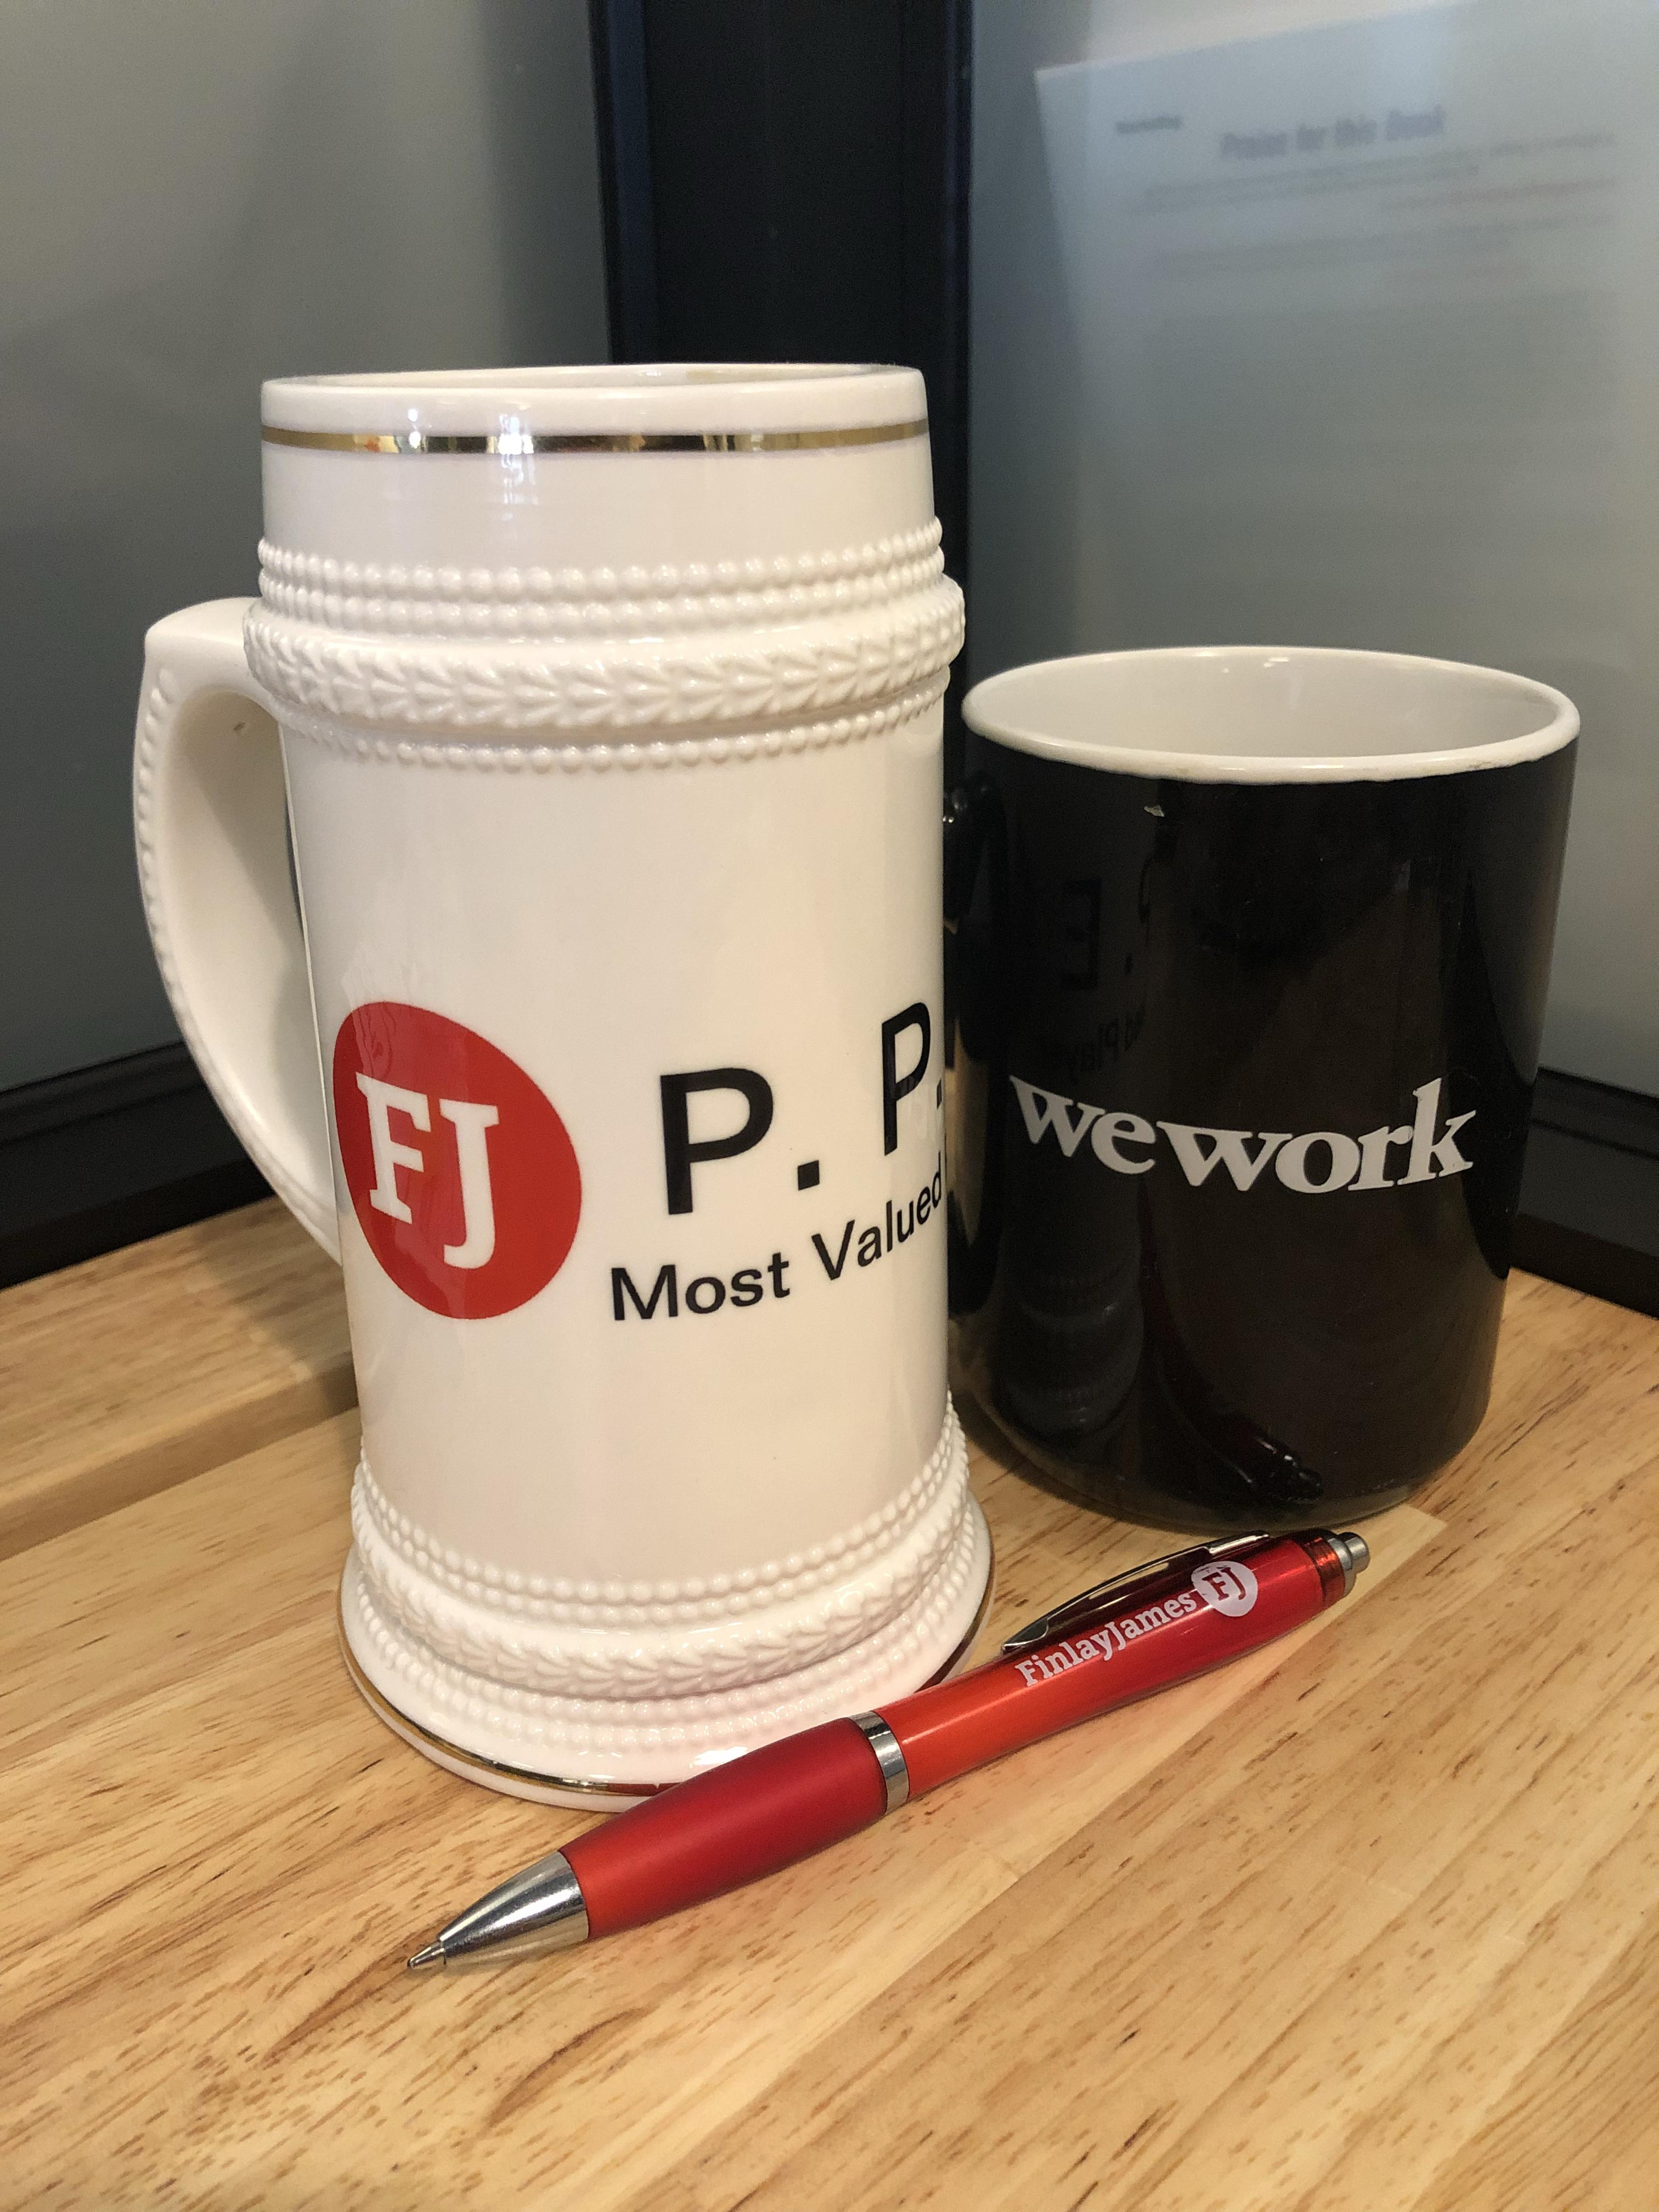wework: (1004, 1071, 1478, 1197)
